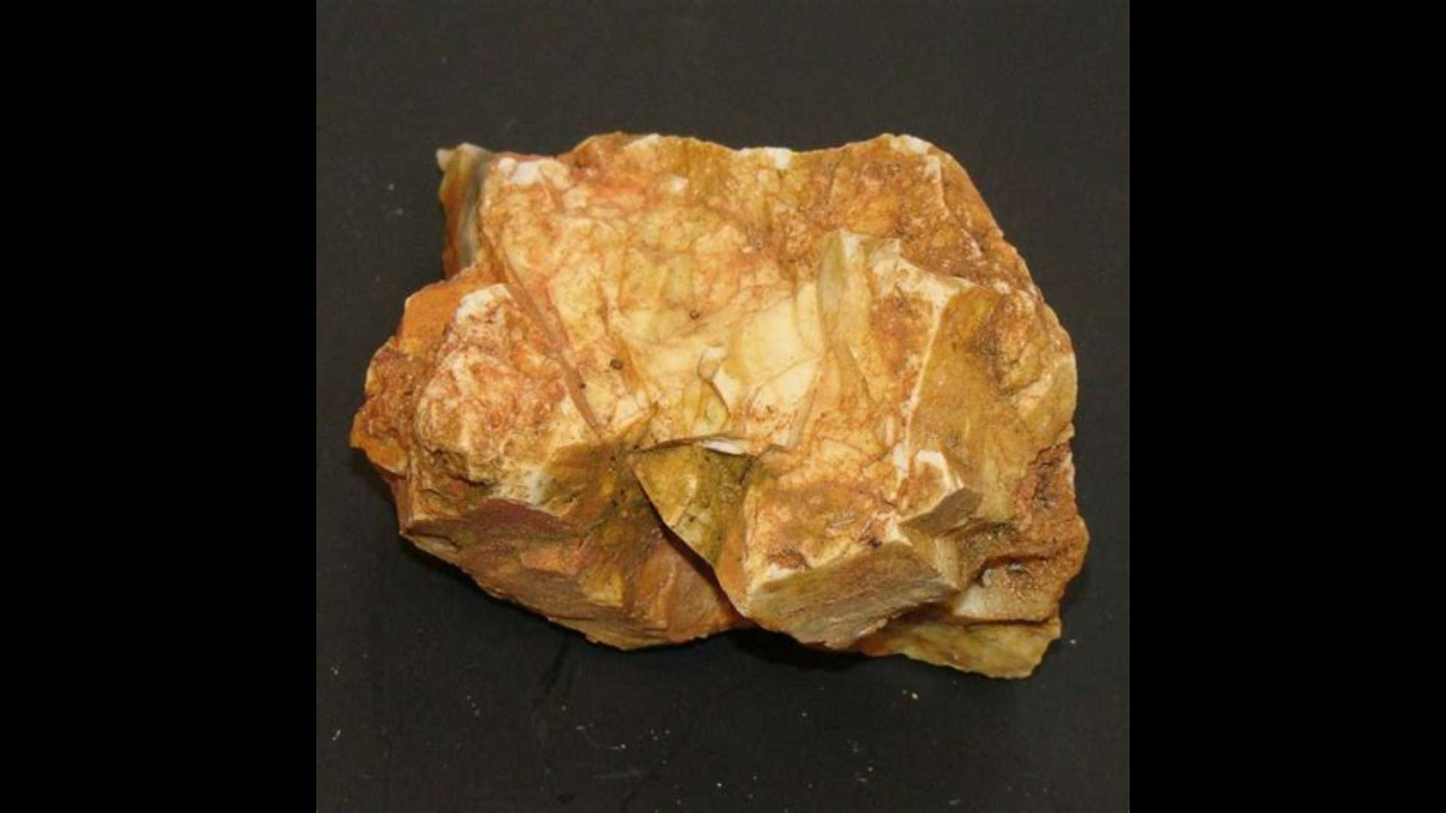rock: (354, 136, 1083, 664)
